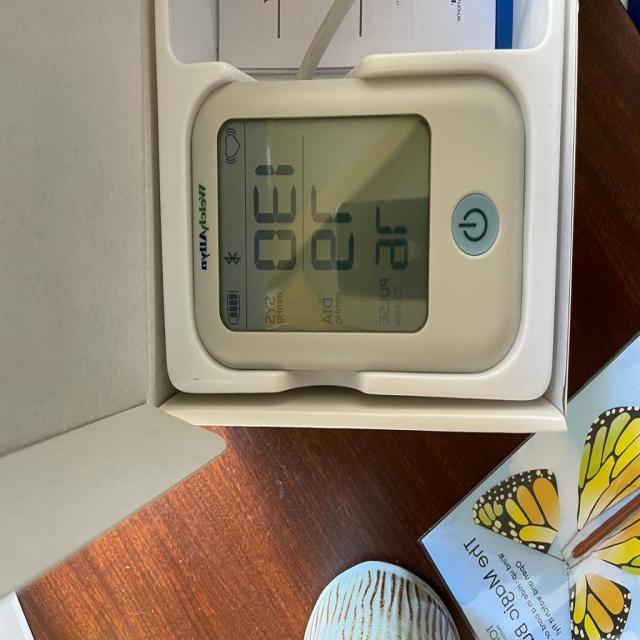bp: (154, 0, 577, 430)
